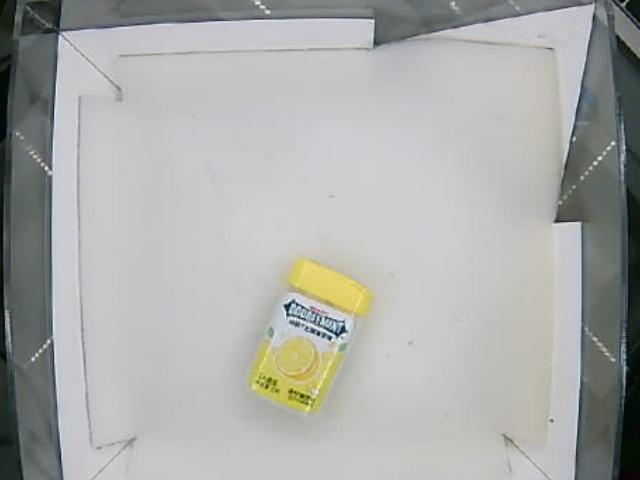Bottle: (240, 258, 370, 417)
